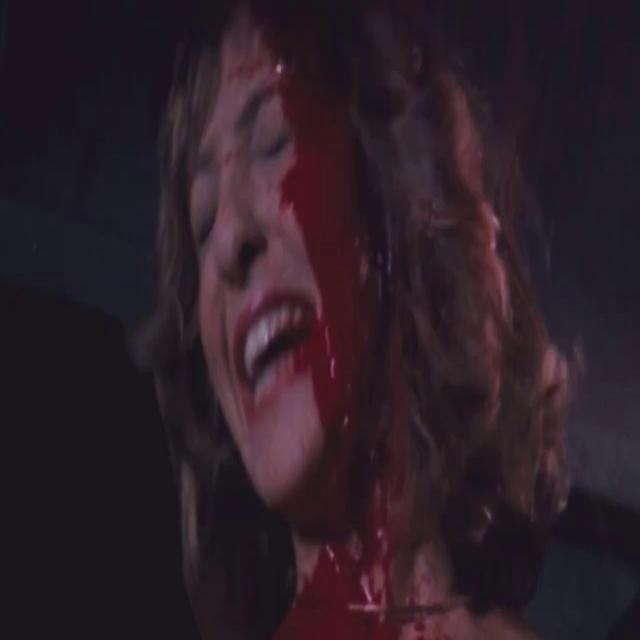flood: (282, 42, 402, 640)
